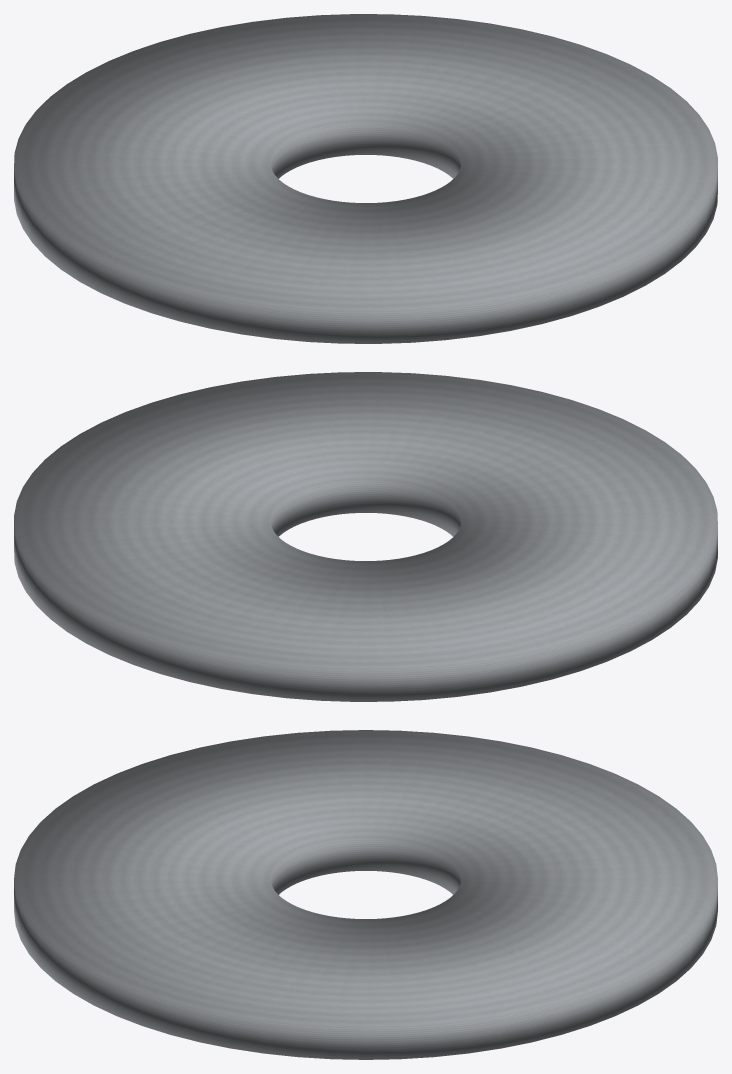
The model's file is engine_mount.glb.
The picture shows the model from 3 angles, top to bottom: view 1: azimuth 30°, elevation 25°; view 2: azimuth 150°, elevation 25°; view 3: azimuth 270°, elevation 25°; orthographic projection.
Visible parts, largest first — view 1: Engine_MountRing; view 2: Engine_MountRing; view 3: Engine_MountRing.
Boxes of the visible parts, x1,y1,x2,y2 form: Engine_MountRing: (14,14,717,343); Engine_MountRing: (14,372,717,701); Engine_MountRing: (14,730,717,1059).
Size of the model in its own units: 2.36 by 0.12 by 2.36.
2 materials, 1 textured.
